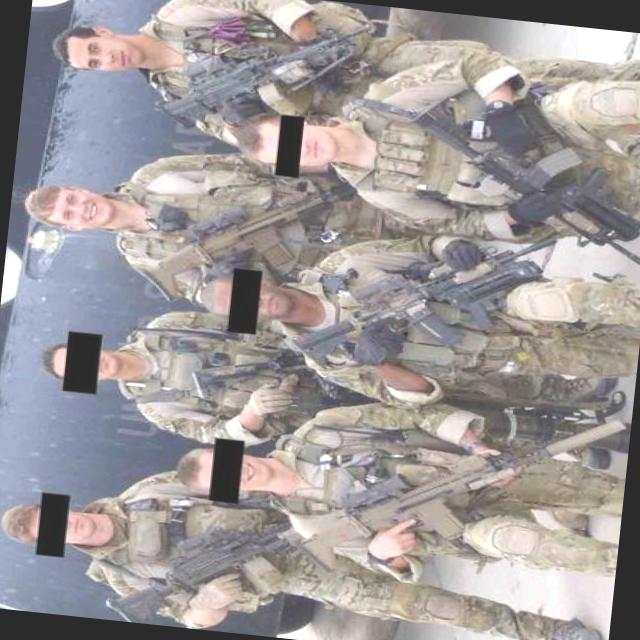long weapon: (285, 386, 623, 580), (386, 76, 640, 278), (274, 226, 578, 392), (128, 5, 396, 146), (117, 176, 382, 313), (93, 499, 295, 623), (182, 336, 312, 407)
